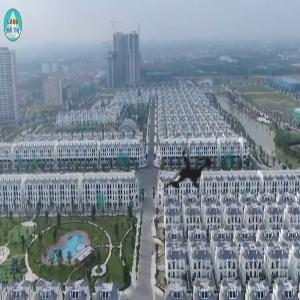drone: (140, 125, 236, 221)
